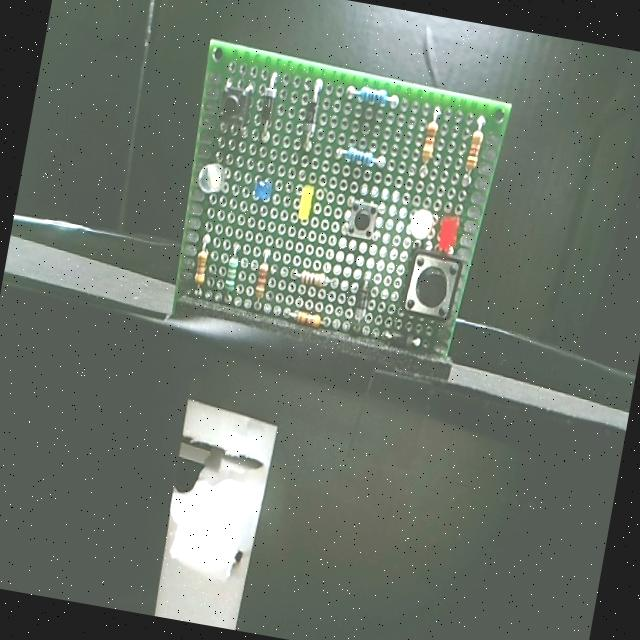diode: (341, 277, 375, 326), (380, 321, 424, 357), (295, 94, 325, 140), (256, 86, 280, 134)
led: (400, 202, 440, 255), (425, 210, 466, 256), (288, 176, 319, 226), (190, 160, 228, 197), (249, 173, 273, 204)
resistor: (456, 118, 490, 184), (348, 78, 399, 118), (278, 300, 329, 334), (215, 246, 244, 305), (334, 140, 384, 172), (286, 260, 332, 293), (417, 111, 442, 168), (249, 252, 274, 307), (190, 244, 216, 291)
switch: (396, 244, 466, 324), (212, 79, 255, 127), (344, 196, 387, 241)
